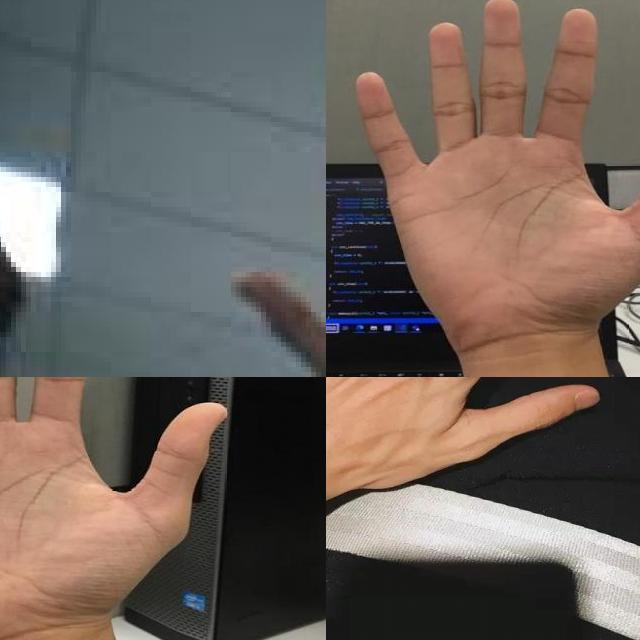no-gloves: (351, 0, 640, 352), (0, 377, 232, 640), (326, 377, 618, 537), (231, 52, 326, 377)
